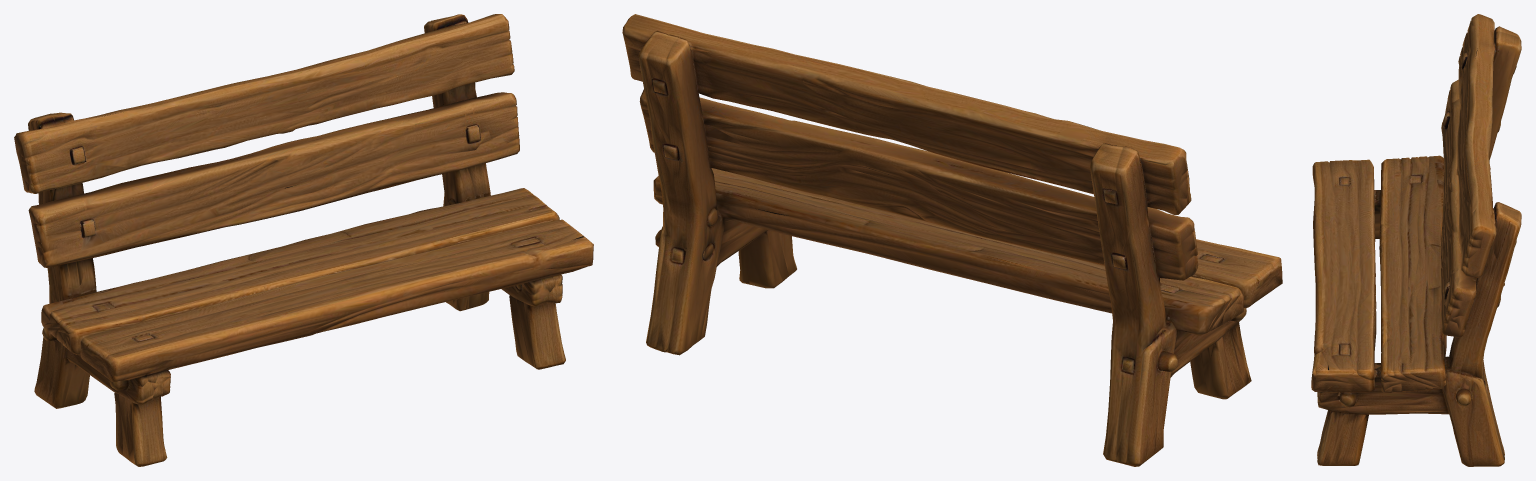
The model's file is banco_de_madera.glb.
3 renders of one model, left to right at view 1: azimuth 30°, elevation 25°; view 2: azimuth 150°, elevation 25°; view 3: azimuth 270°, elevation 25°, orthographic. The views are drawn at different scales.
Visible parts, largest first — view 1: banco_de_madera; view 2: banco_de_madera; view 3: banco_de_madera.
Part boxes in pixels (bbox=[...]): banco_de_madera: bbox=[14, 14, 593, 466]; banco_de_madera: bbox=[622, 14, 1282, 466]; banco_de_madera: bbox=[1311, 14, 1521, 466].
Size of what is drawn, in the model's own units: 1.65 by 0.9002 by 0.6799.
1 material, 1 textured.
